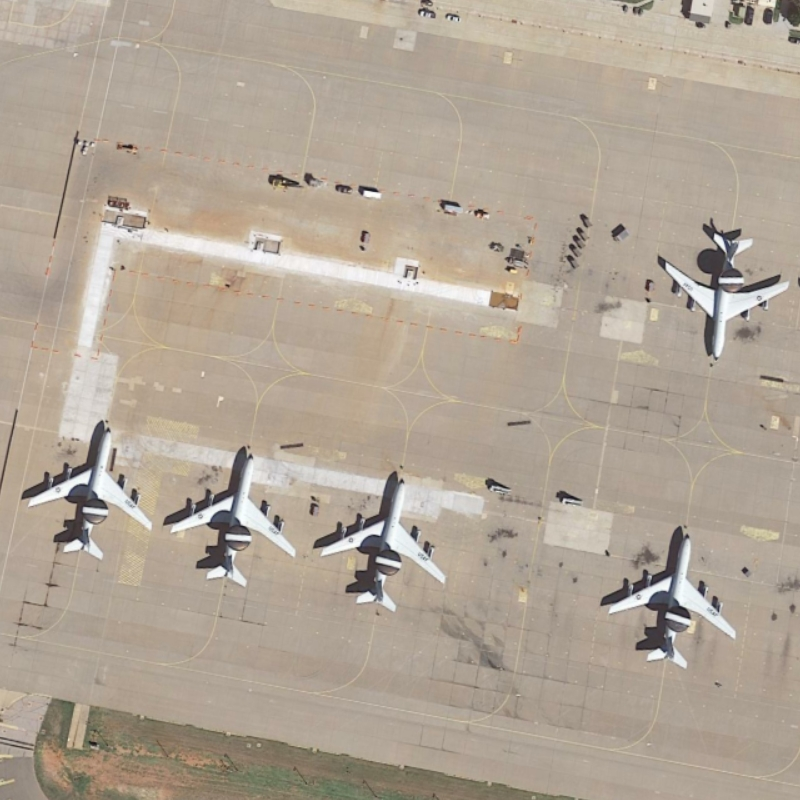A7: (595, 520, 743, 677), (313, 462, 452, 619), (16, 415, 160, 565), (161, 444, 300, 594), (650, 221, 792, 366)
